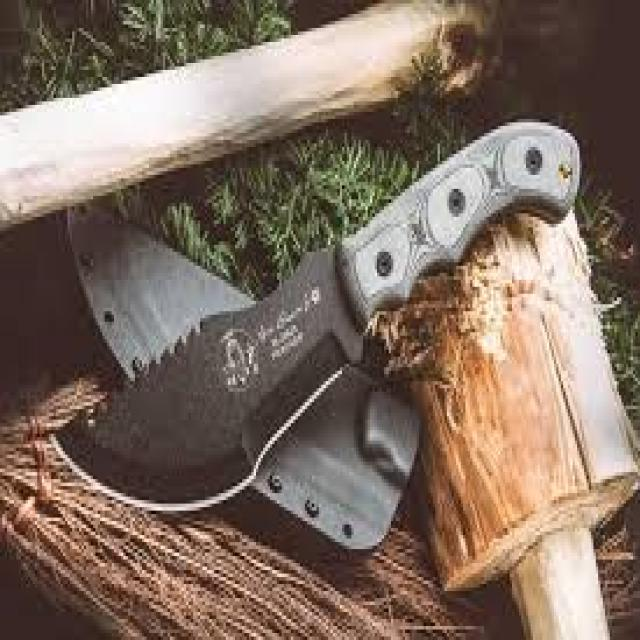knives: (31, 172, 398, 579)
